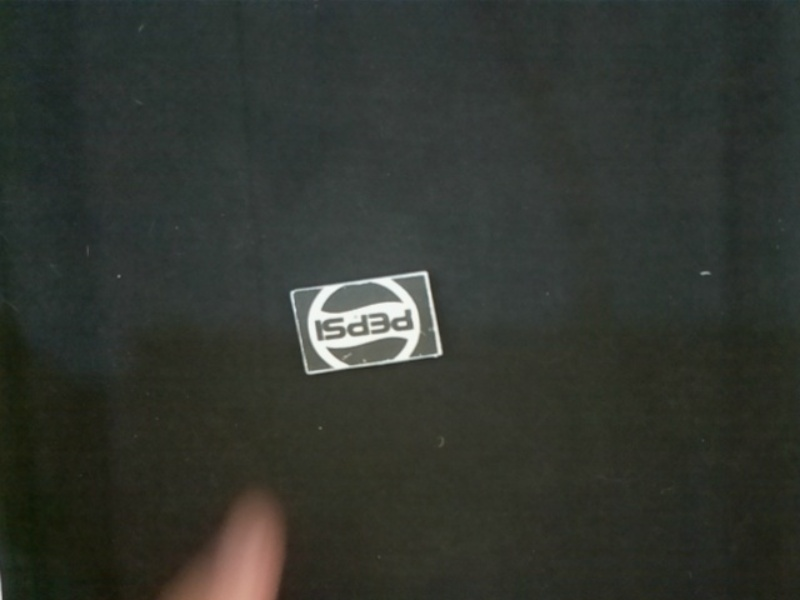pepsi: (291, 276, 448, 376)
